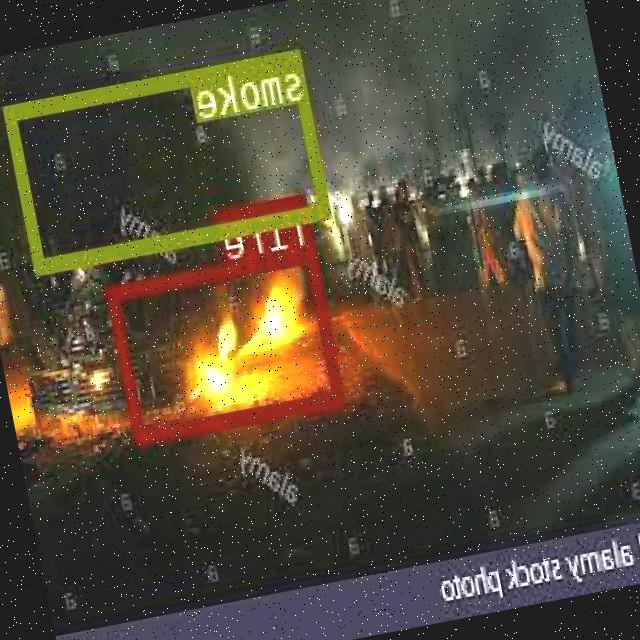fire: (109, 244, 348, 442)
smoke: (6, 48, 333, 270)
